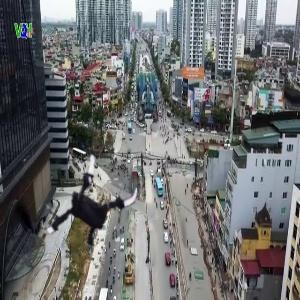drone: (31, 152, 145, 266)
